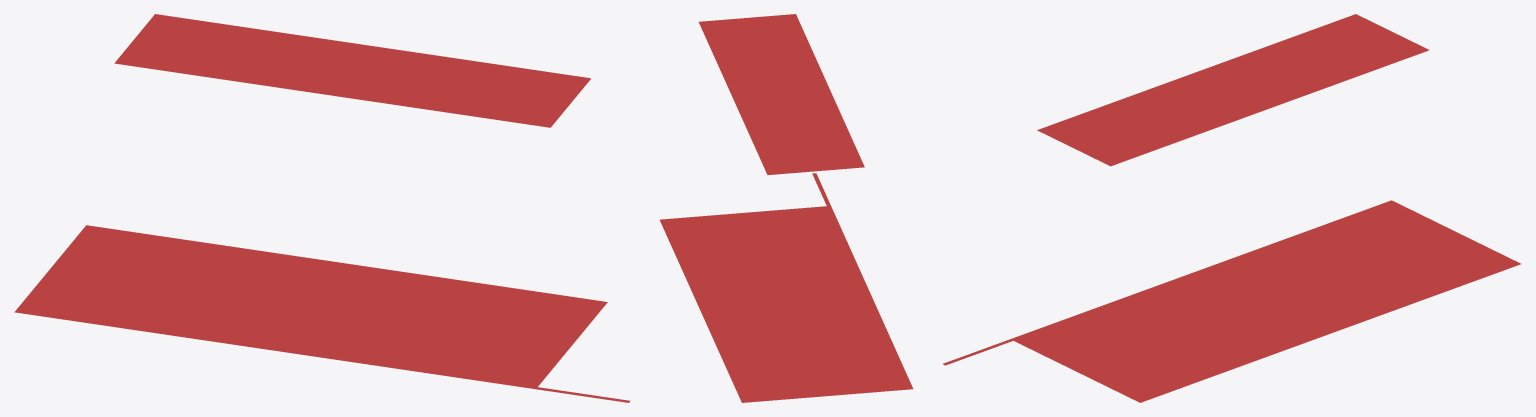
3 views of the same model, side by side, from view 1: azimuth 30°, elevation 25°; view 2: azimuth 150°, elevation 25°; view 3: azimuth 270°, elevation 25° (orthographic). The views are drawn at different scales.
Size of the model in its own units: 17.41 by 21.03 by 8.89.
